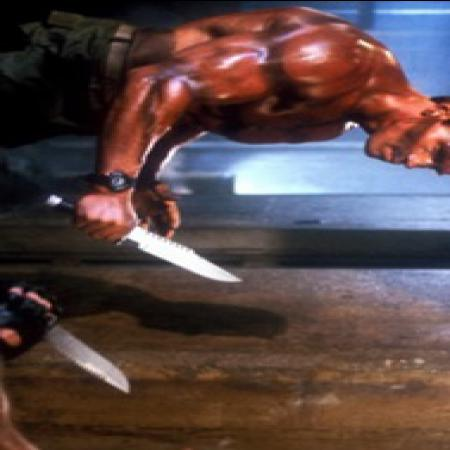long weapon: (78, 196, 255, 286), (24, 308, 148, 399)
